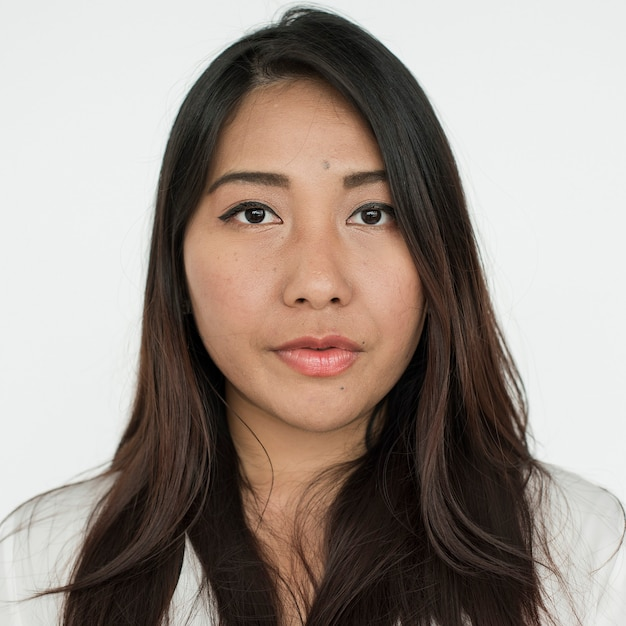teen: (146, 46, 438, 438)
